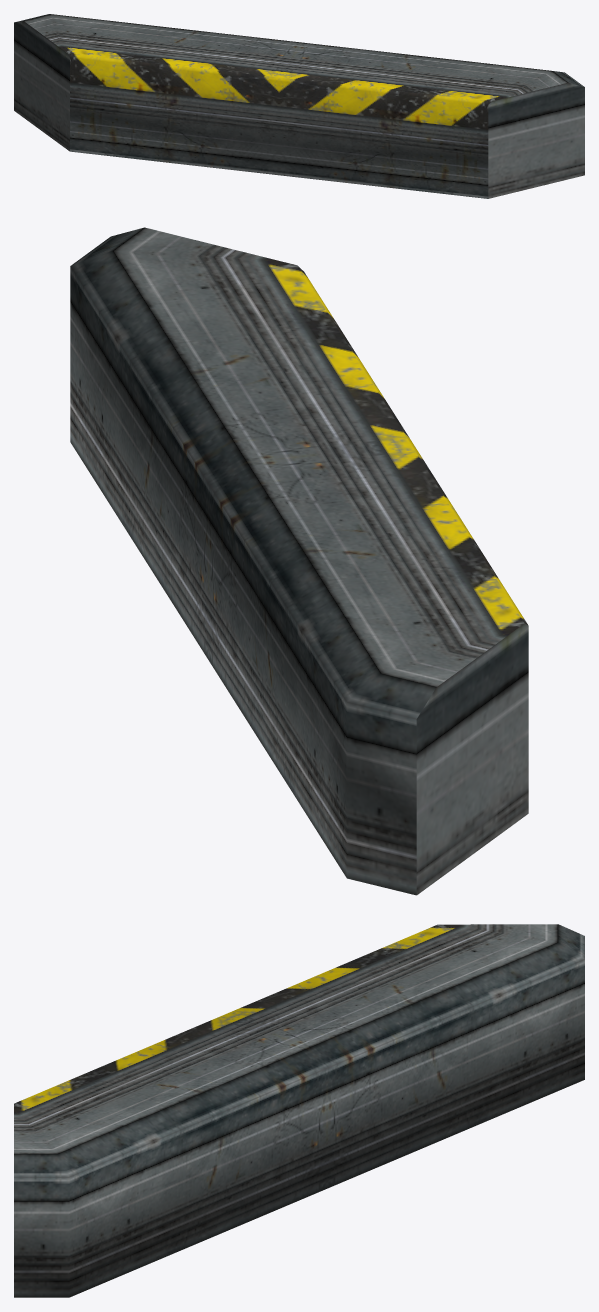
Rendered from Edges_09.fbx.
3 views of the same model, one above another, from view 1: azimuth 30°, elevation 25°; view 2: azimuth 150°, elevation 25°; view 3: azimuth 270°, elevation 25° (orthographic). The views are drawn at different scales.
Visible parts, largest first — view 1: Edges_09; view 2: Edges_09; view 3: Edges_09.
Part boxes in pixels (x1=…): Edges_09: x1=14, y1=14, x2=584, y2=198; Edges_09: x1=70, y1=227, x2=528, y2=895; Edges_09: x1=14, y1=924, x2=584, y2=1297.
Bounding box in the file's own units: 107 × 27.46 × 107.
Materials: 1 (1 with a texture image).
